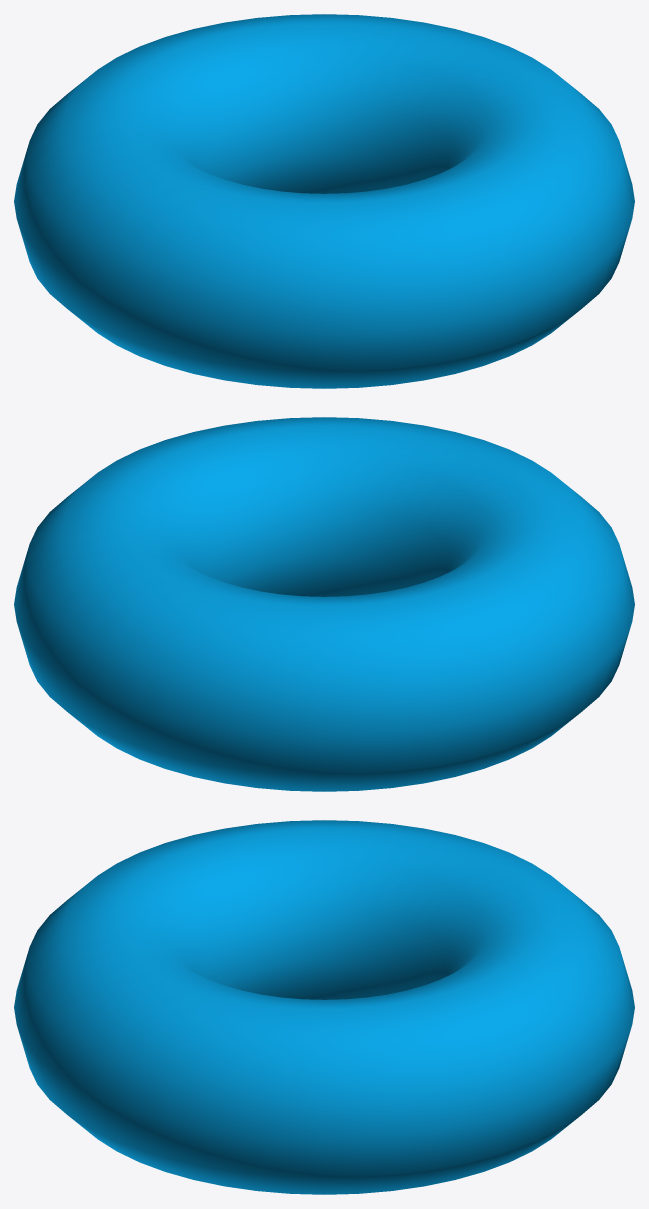
File: badring.fbx
3 views of the same model, one above another, from view 1: azimuth 30°, elevation 25°; view 2: azimuth 150°, elevation 25°; view 3: azimuth 270°, elevation 25° (orthographic).
Visible parts, largest first — view 1: Torus; view 2: Torus; view 3: Torus.
Boxes of the visible parts, x1=… form: Torus: x1=14, y1=14, x2=634, y2=388; Torus: x1=14, y1=417, x2=634, y2=791; Torus: x1=14, y1=820, x2=634, y2=1194.
Bounding box in the file's own units: 292 × 92 × 292.
